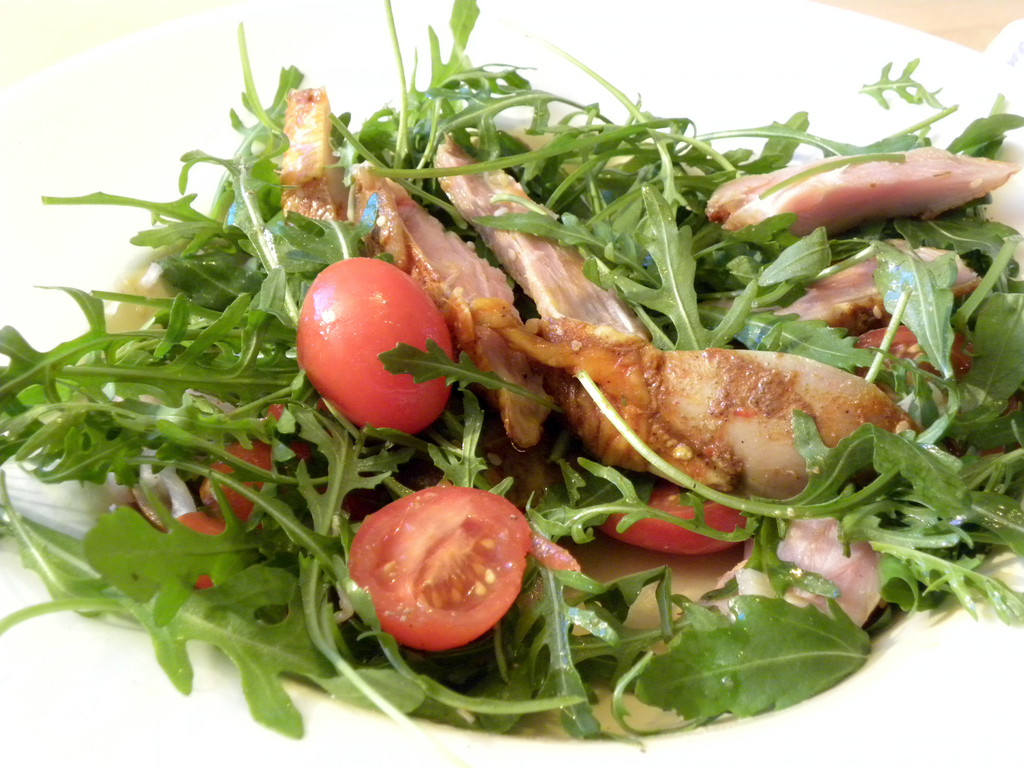Tomato: (352, 483, 531, 653), (295, 257, 460, 433), (202, 440, 326, 531), (604, 486, 759, 554), (846, 321, 977, 396)
